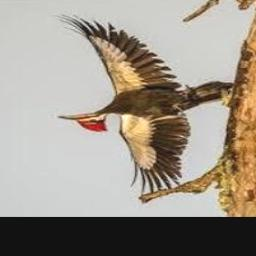Woodpecker: (53, 12, 237, 195)
